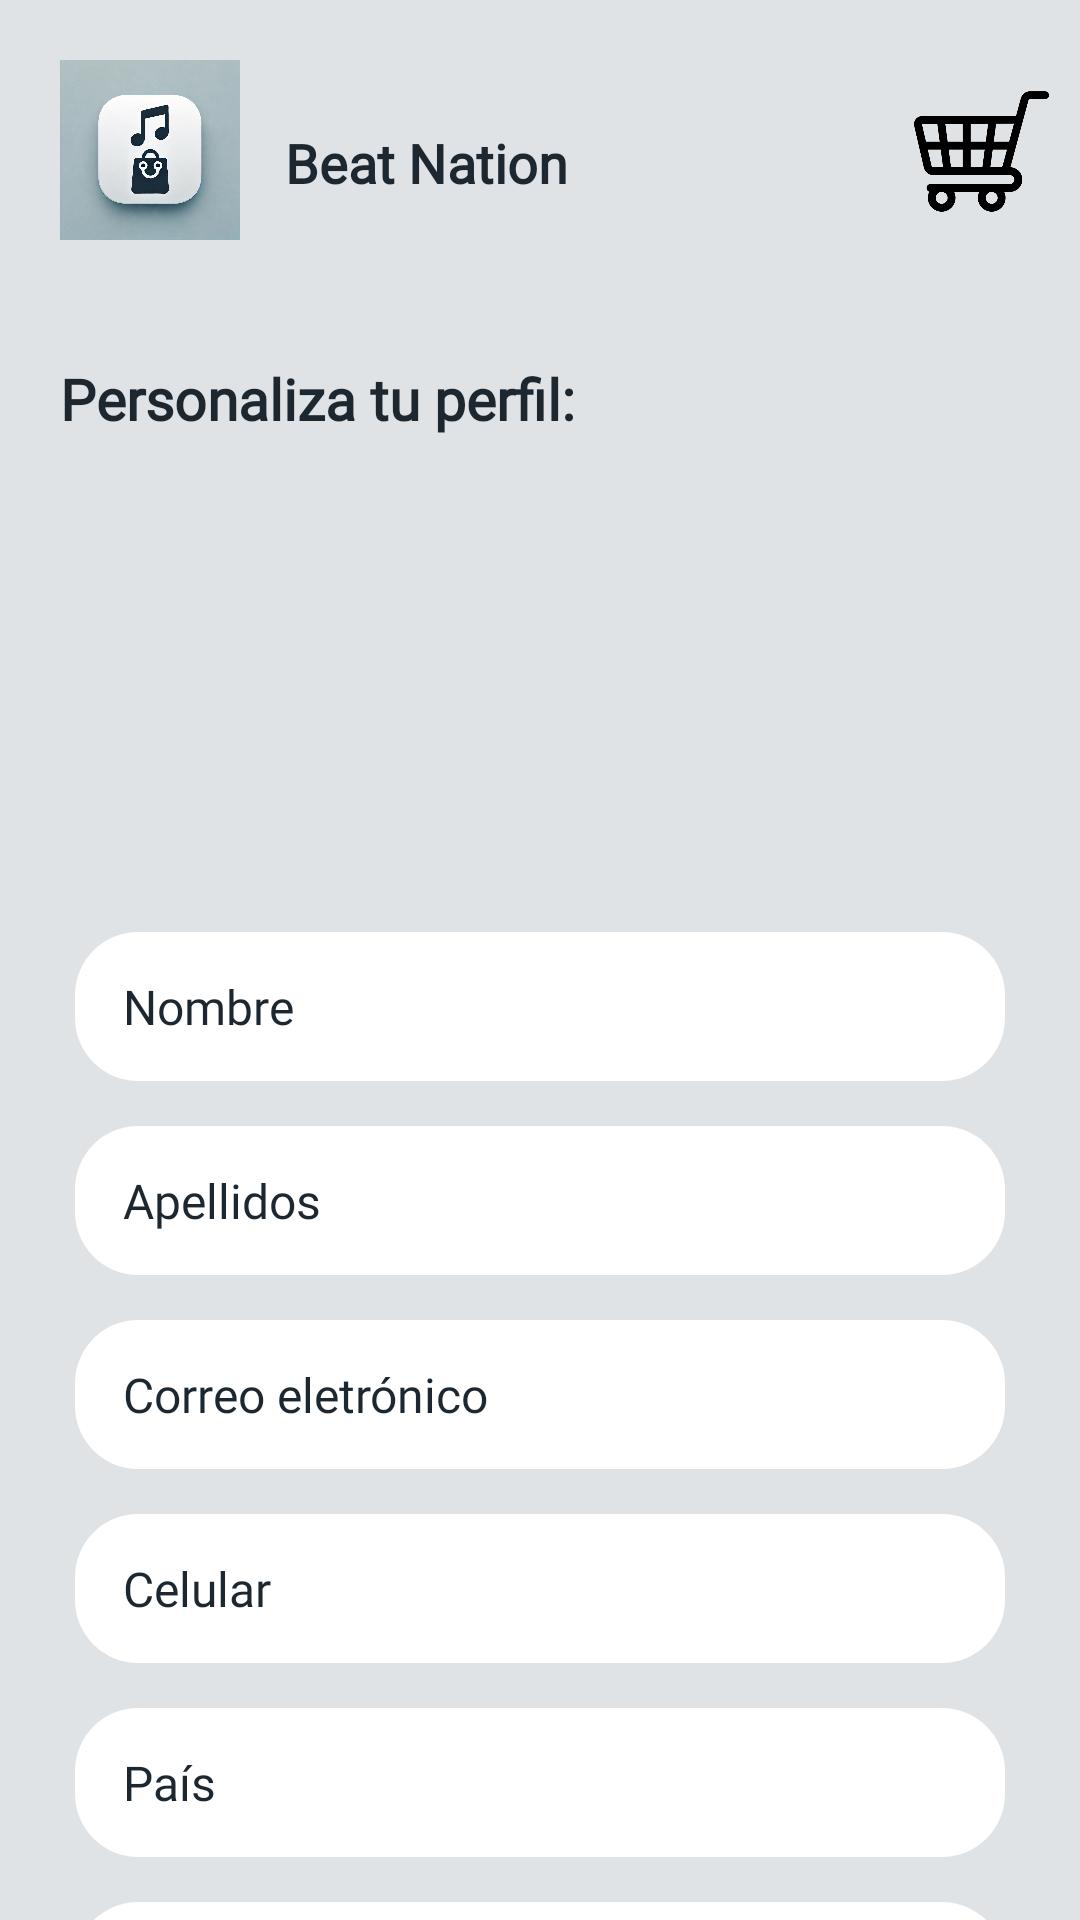

Screen size 1080w x 1920h. Icon name, then its center in pixels as point (x, y):
Carrito de compras: point (981, 151)
